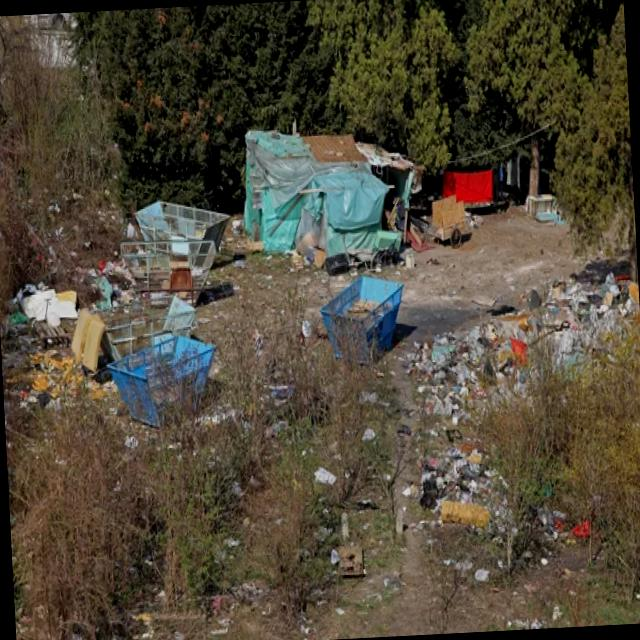garbage: (417, 242, 633, 454)
